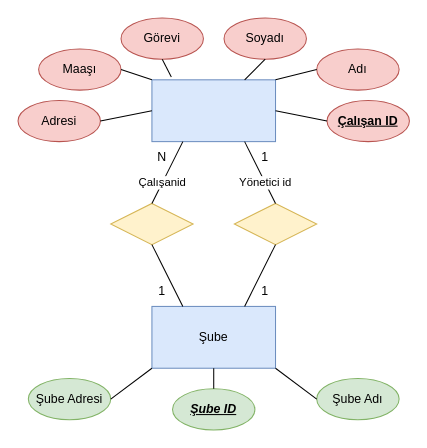
Some shapes in this 427 by 448 pixel diagram are drawn without their labels. Here are the shapes that lost their labels. From the top down, the centre of each, then its label:
At pixel 213 110: "Çalışan".
At pixel 151 223: "Çalışır".
At pixel 275 223: "Yönetir".
